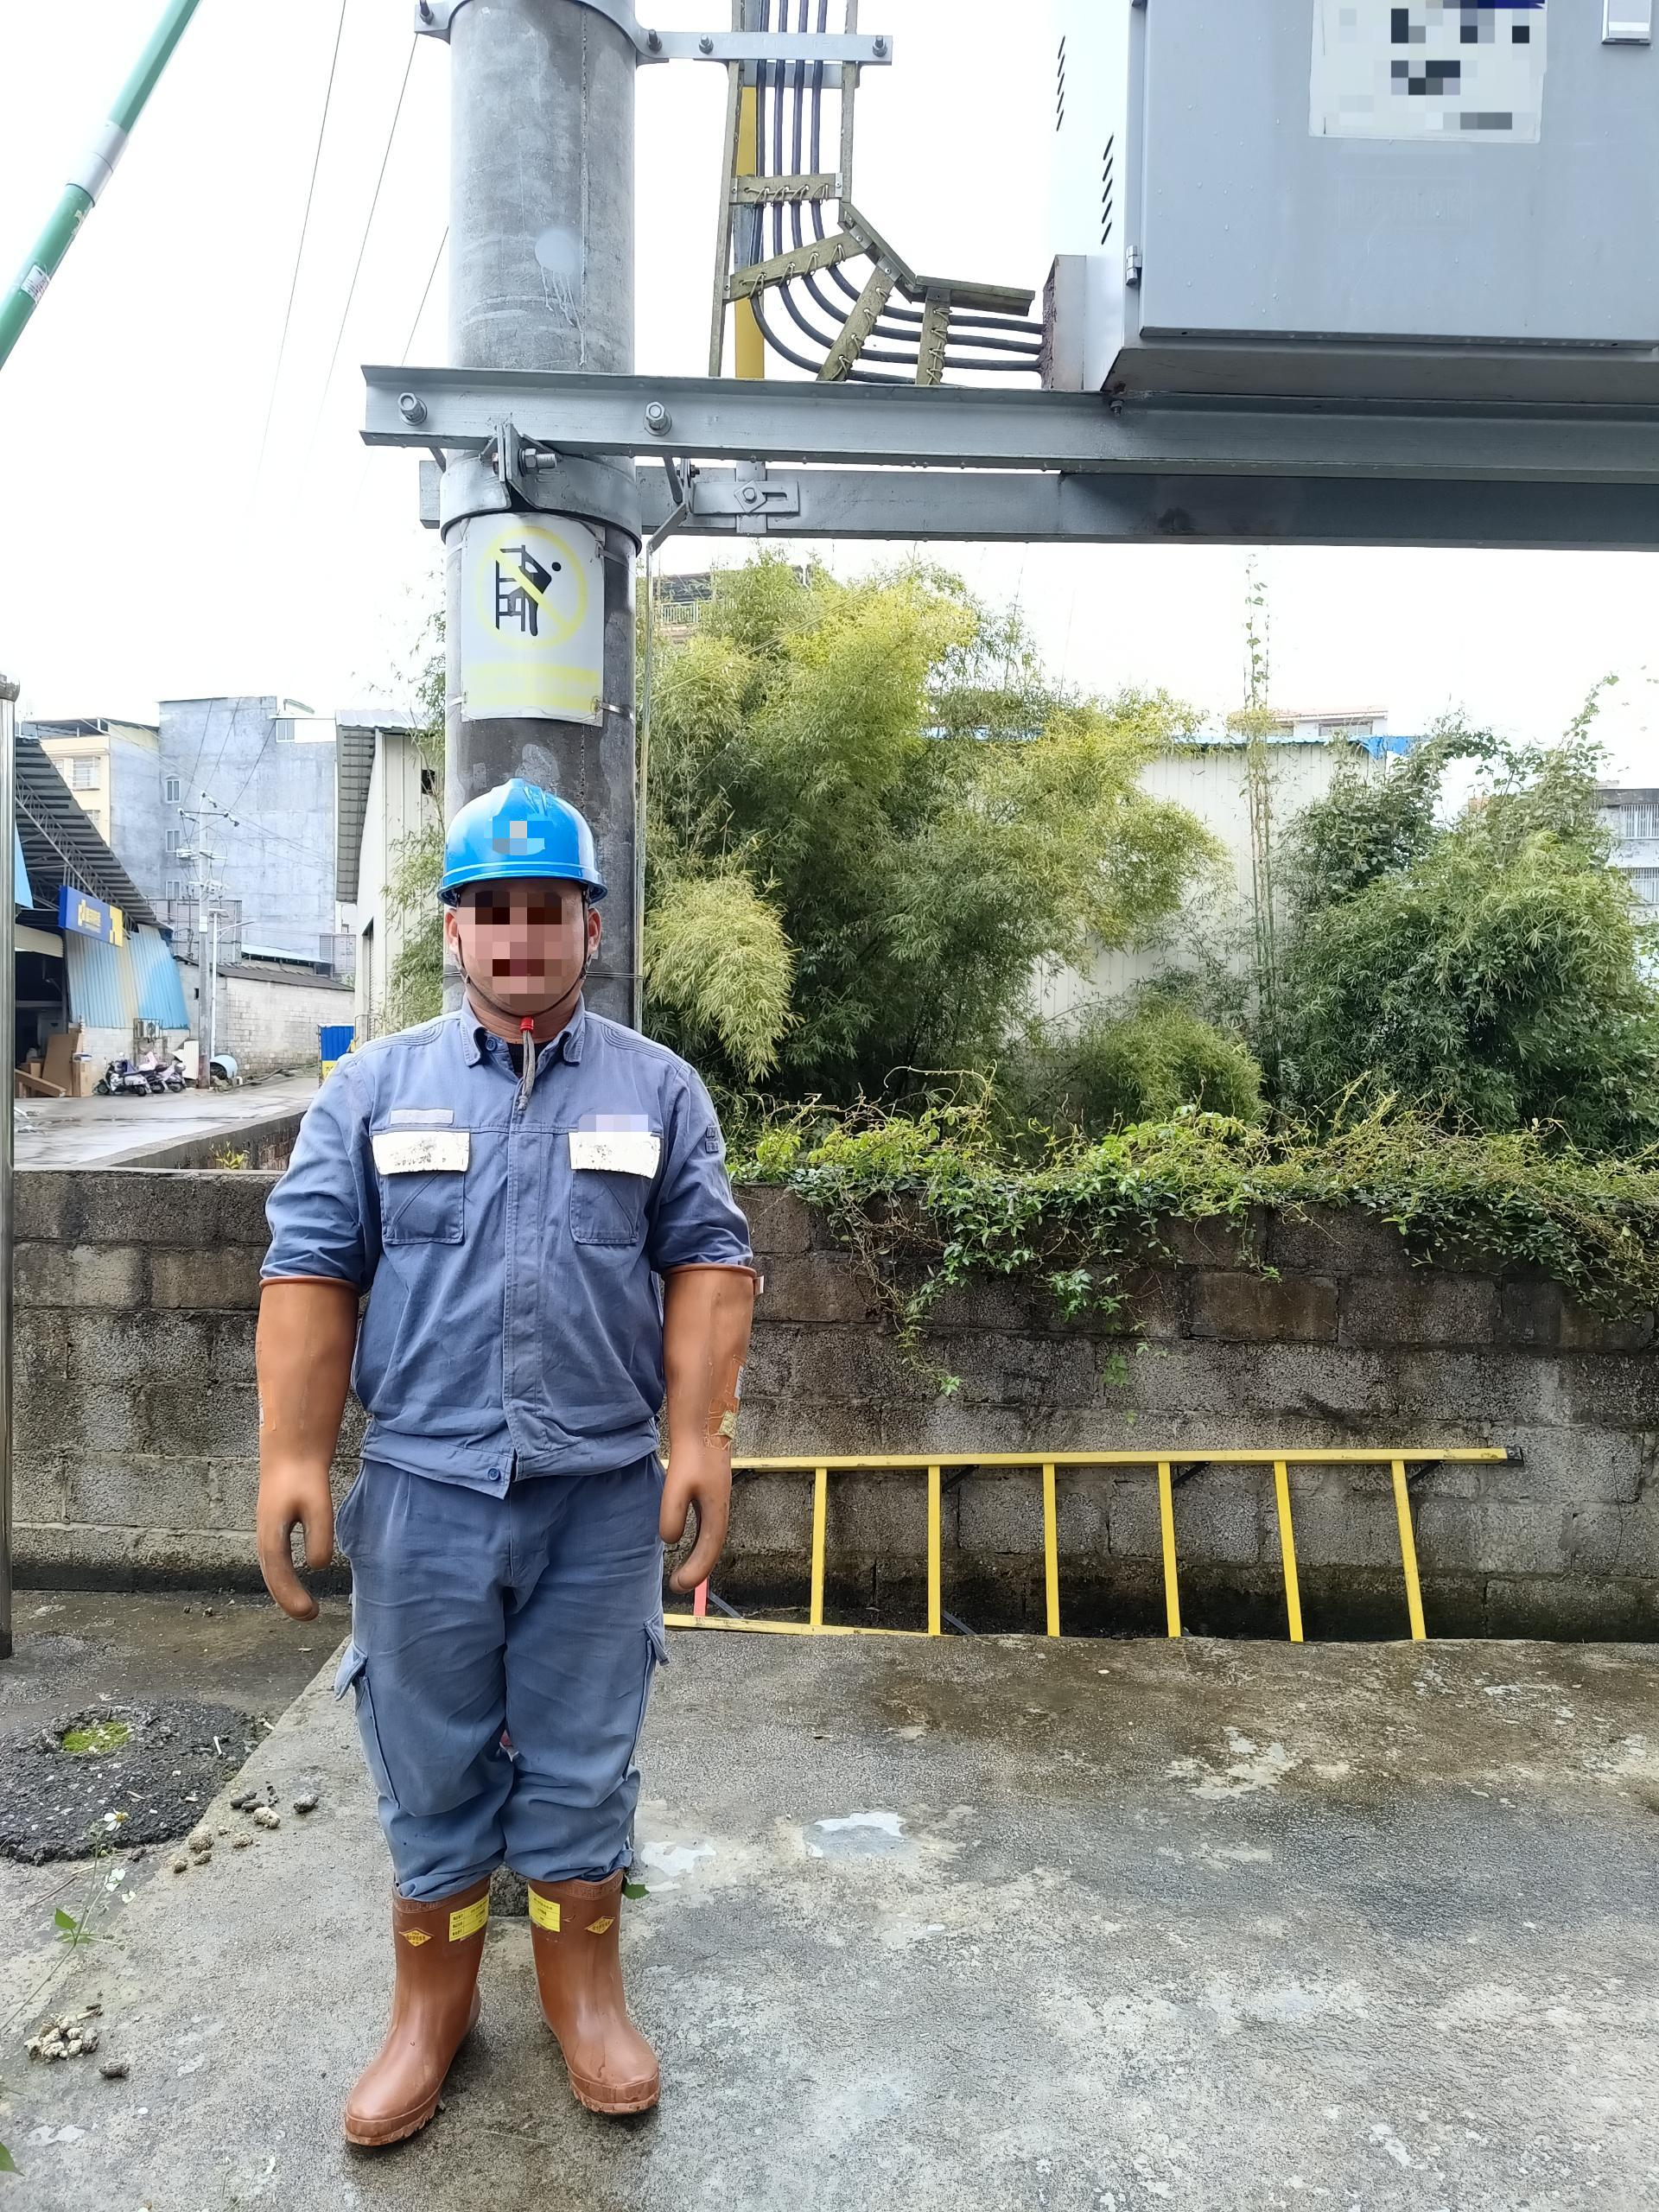halt: (432, 784, 613, 1031)
